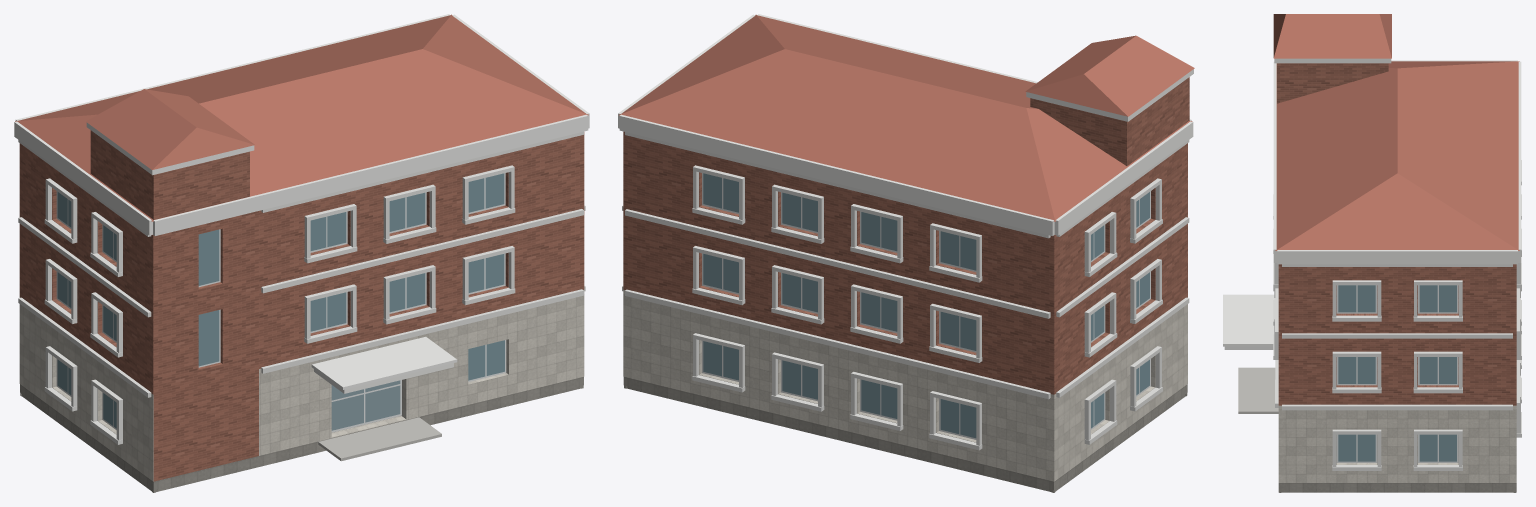
3 views of the same model, side by side, from view 1: azimuth 30°, elevation 25°; view 2: azimuth 150°, elevation 25°; view 3: azimuth 270°, elevation 25° (orthographic). The views are drawn at different scales.
Parts seen in each view (by area): view 1: mokryeon__brick, mokryeon__tileroof, mokryeon__stone, mokryeon__trim, mokryeon__cap, mokryeon__glass, mokryeon__plinth, mokryeon__frame, mokryeon__threshold-main, mokryeon__doorglass, mokryeon__foundation, mokryeon__canopy; view 2: mokryeon__brick, mokryeon__tileroof, mokryeon__stone, mokryeon__trim, mokryeon__glass, mokryeon__cap, mokryeon__plinth, mokryeon__frame, mokryeon__foundation; view 3: mokryeon__tileroof, mokryeon__brick, mokryeon__stone, mokryeon__trim, mokryeon__cap, mokryeon__glass, mokryeon__plinth, mokryeon__threshold-main, mokryeon__frame, mokryeon__foundation.
Part boxes in pixels (x1=…): mokryeon__brick: x1=19, y1=130, x2=584, y2=481; mokryeon__tileroof: x1=15, y1=14, x2=588, y2=221; mokryeon__stone: x1=19, y1=290, x2=584, y2=481; mokryeon__trim: x1=18, y1=131, x2=585, y2=444; mokryeon__cap: x1=14, y1=14, x2=589, y2=389; mokryeon__glass: x1=57, y1=173, x2=504, y2=428; mokryeon__plinth: x1=20, y1=377, x2=583, y2=490; mokryeon__frame: x1=56, y1=173, x2=506, y2=432; mokryeon__threshold-main: x1=318, y1=417, x2=441, y2=461; mokryeon__doorglass: x1=331, y1=380, x2=400, y2=430; mokryeon__foundation: x1=20, y1=377, x2=583, y2=492; mokryeon__canopy: x1=314, y1=363, x2=453, y2=393; mokryeon__brick: x1=623, y1=77, x2=1189, y2=394; mokryeon__tileroof: x1=619, y1=14, x2=1194, y2=221; mokryeon__stone: x1=623, y1=290, x2=1187, y2=481; mokryeon__trim: x1=622, y1=132, x2=1189, y2=450; mokryeon__glass: x1=703, y1=173, x2=1149, y2=438; mokryeon__cap: x1=618, y1=14, x2=1193, y2=235; mokryeon__plinth: x1=623, y1=377, x2=1187, y2=489; mokryeon__frame: x1=702, y1=173, x2=1150, y2=439; mokryeon__foundation: x1=624, y1=385, x2=1187, y2=492; mokryeon__tileroof: x1=1273, y1=14, x2=1519, y2=250; mokryeon__brick: x1=1277, y1=63, x2=1516, y2=405; mokryeon__stone: x1=1278, y1=405, x2=1516, y2=482; mokryeon__trim: x1=1273, y1=160, x2=1521, y2=470; mokryeon__cap: x1=1223, y1=58, x2=1521, y2=346; mokryeon__glass: x1=1338, y1=285, x2=1456, y2=461; mokryeon__plinth: x1=1278, y1=483, x2=1516, y2=490; mokryeon__threshold-main: x1=1238, y1=367, x2=1278, y2=413; mokryeon__frame: x1=1336, y1=285, x2=1458, y2=462; mokryeon__foundation: x1=1278, y1=483, x2=1516, y2=492.
Size of the model in its own units: 20.09 by 15.28 by 13.25.
Materials: 14 (5 with a texture image).
